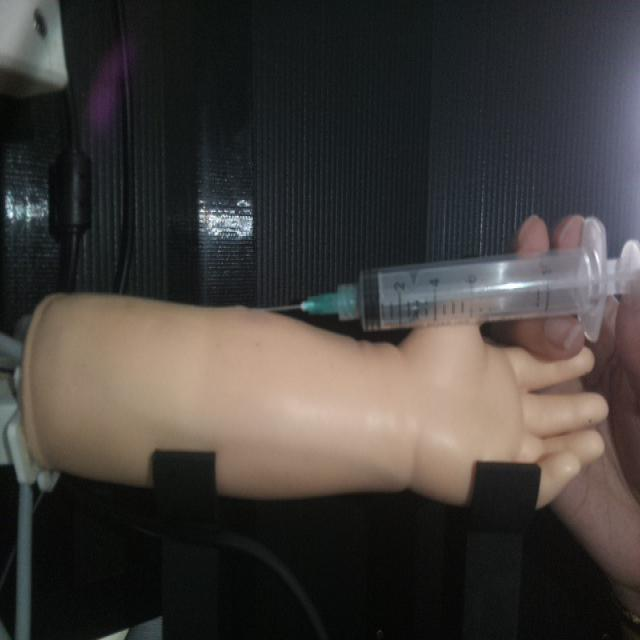Outside: (256, 214, 638, 340)
